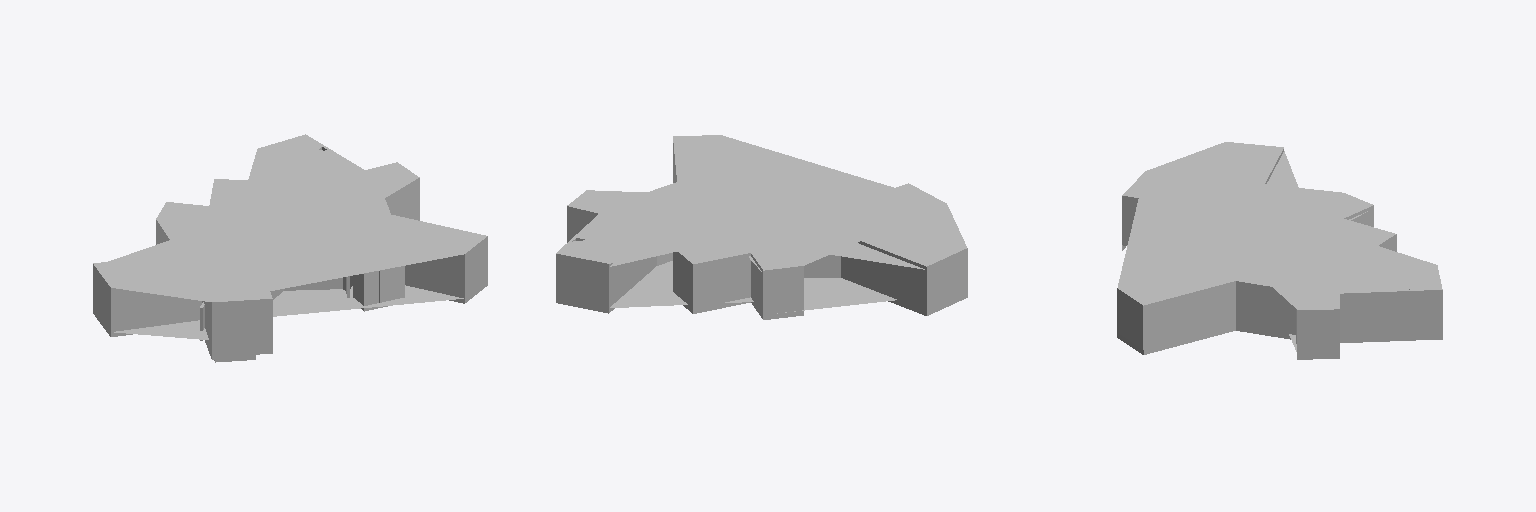
File: houseo4.obj
3 views of the same model, side by side, from view 1: azimuth 30°, elevation 25°; view 2: azimuth 150°, elevation 25°; view 3: azimuth 270°, elevation 25° (orthographic).
Visible parts, largest first — view 1: Ceiling_Ceiling.001, Glass_005, Wall_006, Floor; view 2: Ceiling_Ceiling.001, Wall_006, Floor; view 3: Ceiling_Ceiling.001, Wall_006, Floor, Glass_005.
Boxes of the visible parts, box(x1,y1,x2,y2) form: Ceiling_Ceiling.001: box(93, 134, 487, 305); Glass_005: box(114, 238, 485, 356); Wall_006: box(93, 181, 487, 359); Floor: box(93, 274, 487, 362); Ceiling_Ceiling.001: box(556, 135, 967, 273); Wall_006: box(556, 147, 967, 314); Floor: box(556, 261, 967, 319); Ceiling_Ceiling.001: box(1117, 142, 1442, 312); Wall_006: box(1117, 209, 1442, 353); Floor: box(1117, 240, 1442, 359); Glass_005: box(1119, 178, 1212, 348).
Bounding box in the file's own units: 2.05 × 0.3424 × 1.67.